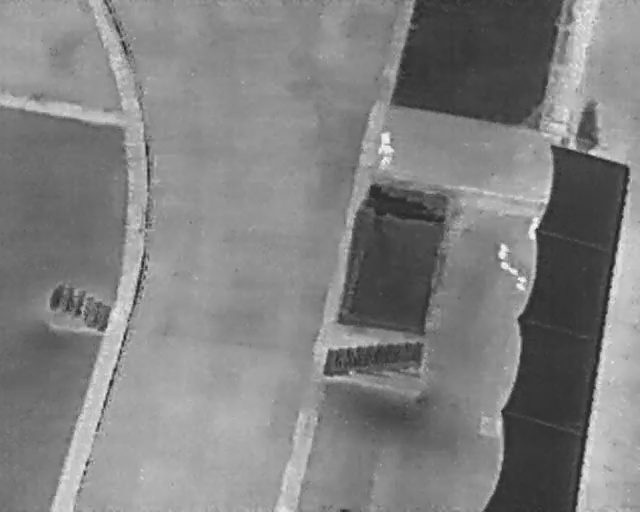Person: (376, 144, 396, 172), (375, 128, 391, 155), (527, 215, 540, 242)
